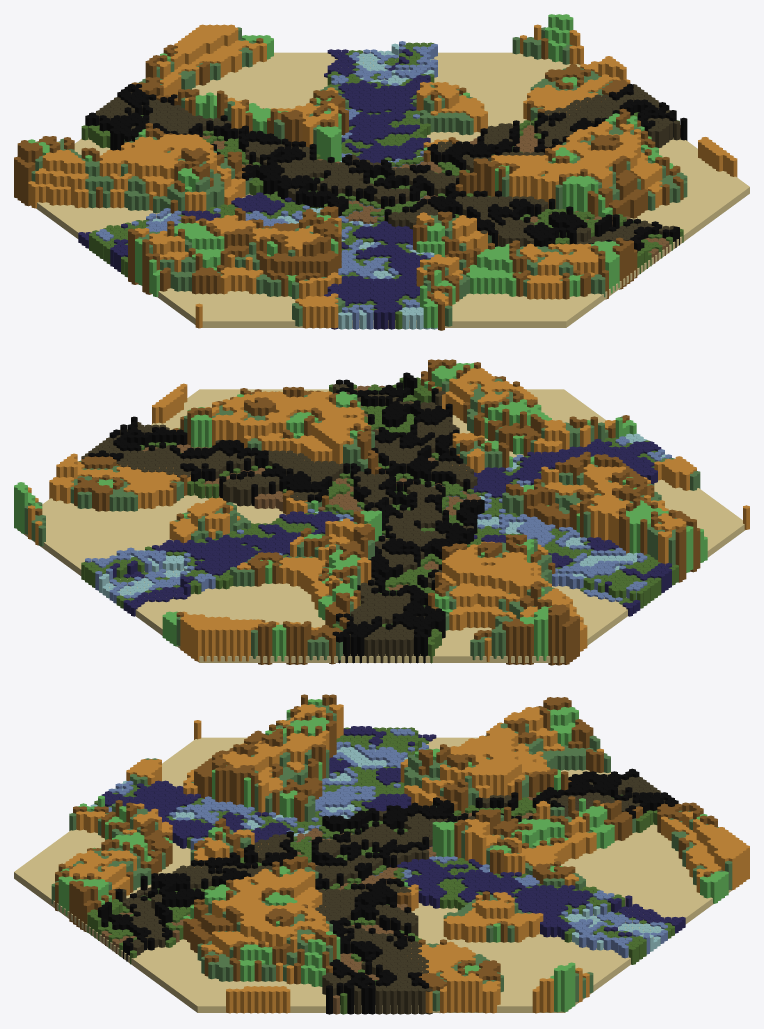
The model's file is 0004_tile_1001011.fbx.
The picture shows the model from 3 angles, top to bottom: view 1: azimuth 30°, elevation 25°; view 2: azimuth 150°, elevation 25°; view 3: azimuth 270°, elevation 25°; orthographic projection.
Parts seen in each view (by area): view 1: Plane; view 2: Plane; view 3: Plane.
Boxes of the visible parts, box(x1,y1,x2,y2) form: Plane: box(14, 14, 749, 330); Plane: box(14, 359, 749, 665); Plane: box(14, 694, 749, 1014).
Size of the model in its own units: 1008 by 86.96 by 1152.
